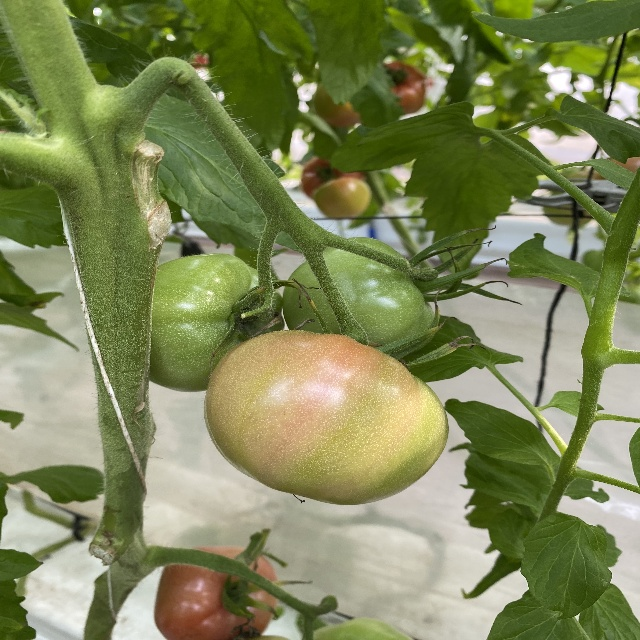b_fully_ripened: (152, 545, 280, 640)
b_green: (148, 254, 285, 392), (282, 237, 436, 356)
b_half_ripened: (202, 329, 450, 505)
